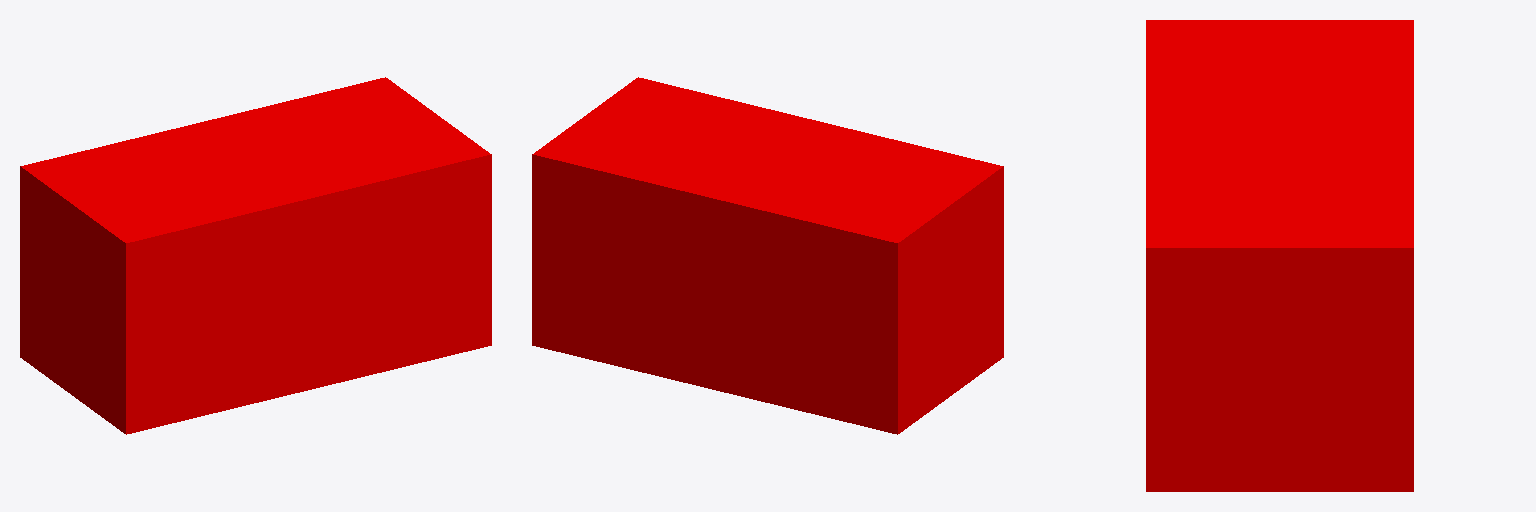
robot.urdf — block_red:
<?xml version="1.0"?>
<robot name="block_red">
  <link name="base_link">
    <contact>
      <lateral_friction value="0.7"/>
      <spinning_friction value=".001"/>
    </contact>
    <inertial>
      <origin rpy="0 0 0" xyz="0 0 0"/>
      <mass value="1"/>
      <inertia ixx="1" ixy="0" ixz="0" iyy="1" iyz="0" izz="1"/>
    </inertial>
    <visual>
      <origin rpy="0 0 0" xyz="0.0 0.0 0.0"/>
      <geometry>
        <box size="0.1 0.05 0.05"/>
      </geometry>
      <material name="red">
        <color rgba="1 0 0 1"/>
      </material>
    </visual>
    <collision>
      <origin rpy="0 0 0" xyz="0.0 0.0 0.0"/>
      <geometry>
        <box size="0.1 0.05 0.05"/>
      </geometry>
    </collision>
  </link>
</robot>

--- What the picture shows (computed from the rendered views, not written in the file) ---
The picture shows the robot from 3 angles, left to right: view 1: azimuth 30°, elevation 25°; view 2: azimuth 150°, elevation 25°; view 3: azimuth 270°, elevation 25°; orthographic projection.
Model block_red with 1 links and 0 joints (none), rooted at base_link, posed every joint at zero.
Links seen in each view (by area): view 1: base_link; view 2: base_link; view 3: base_link.
Boxes of the visible links, <box> form: base_link: <box>20,77,491,434</box>; base_link: <box>532,77,1003,434</box>; base_link: <box>1146,20,1413,491</box>.
Bounding box of the posed robot: 0.1 × 0.05 × 0.05 m (x, y, z).
Geometry: primitives only (box / cylinder / sphere), no mesh files.
